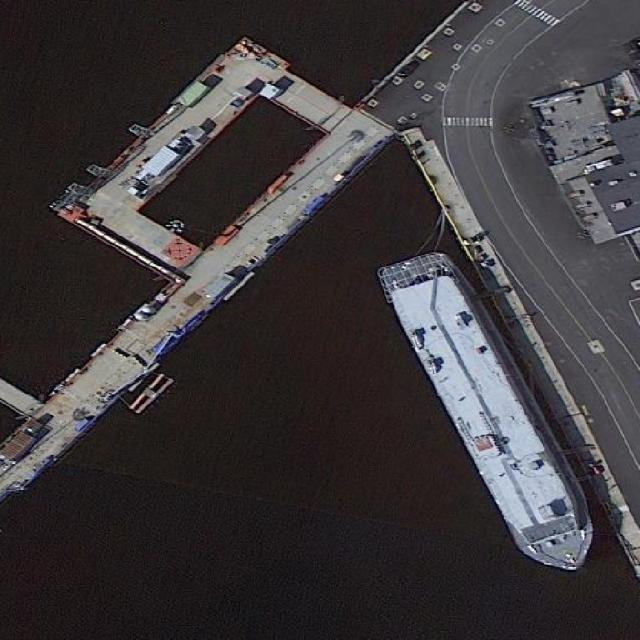Cargo: (369, 229, 618, 593)
